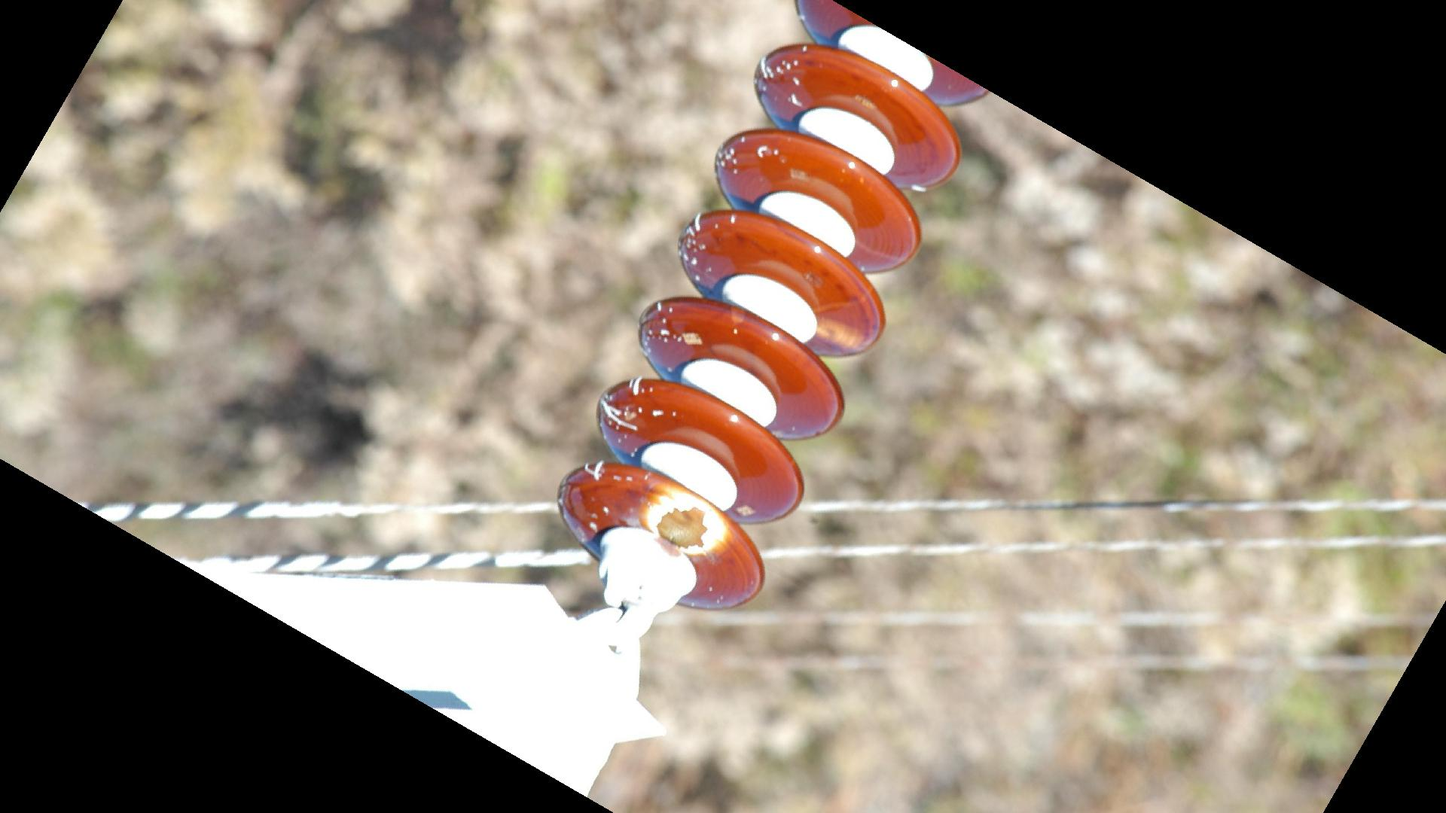insulator: (553, 1, 989, 617)
insulator_flashover: (642, 486, 731, 559), (814, 315, 873, 354)
